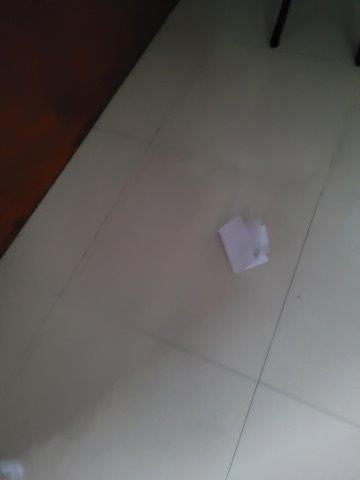kertas: (218, 216, 272, 274)
